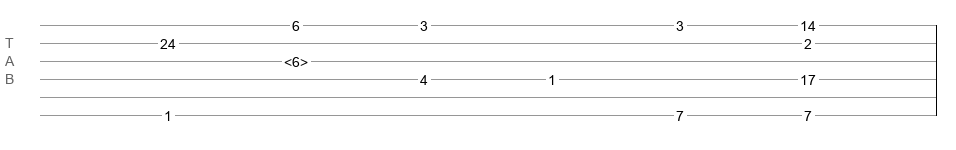1: (164, 108, 172, 118), (548, 72, 556, 82)
14: (800, 18, 816, 28)
17: (800, 72, 816, 82)
2: (804, 36, 812, 46)
24: (160, 36, 176, 46)
3: (420, 18, 428, 28), (676, 18, 684, 28)
4: (420, 72, 428, 82)
6: (292, 18, 300, 28)
7: (676, 108, 684, 118), (804, 108, 812, 118)
harmonic: (284, 54, 308, 64)
